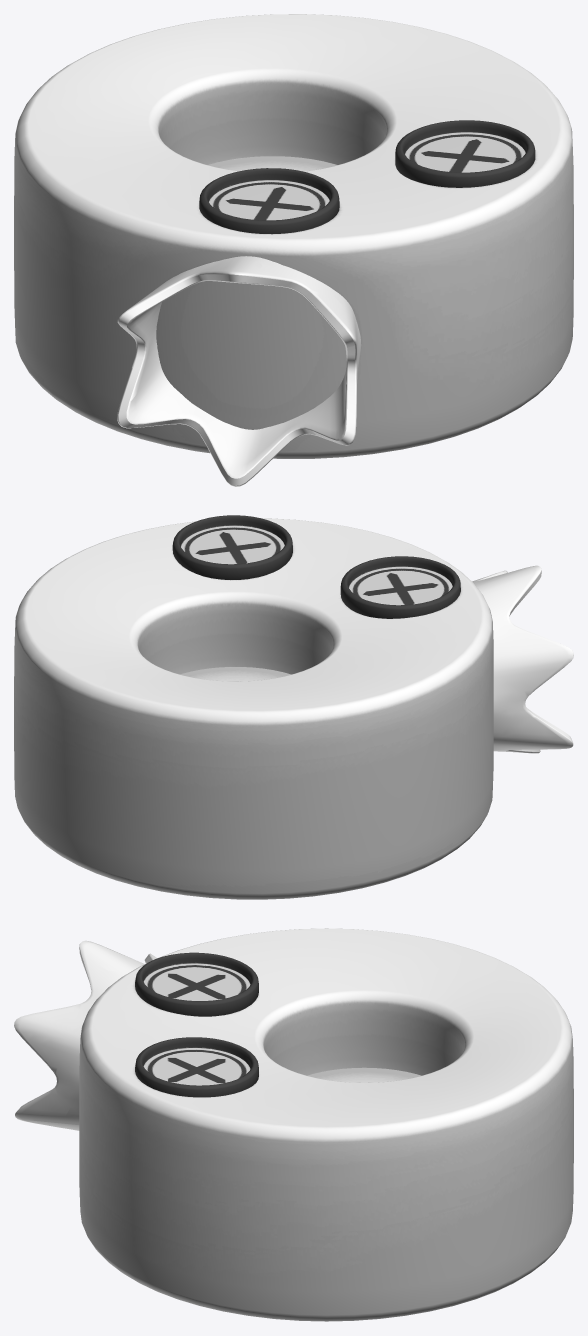
Rendered from Pin_Model_3.fbx.
The picture shows the model from 3 angles, top to bottom: view 1: azimuth 30°, elevation 25°; view 2: azimuth 150°, elevation 25°; view 3: azimuth 270°, elevation 25°; orthographic projection. The views are drawn at different scales.
Parts seen in each view (by area): view 1: blue1, vuongmien, eye; view 2: blue1, eye, vuongmien; view 3: blue1, eye, vuongmien.
Part boxes in pixels (x1,y1,x2,y2): blue1: (14, 14, 573, 458); vuongmien: (117, 256, 361, 486); eye: (199, 120, 535, 234); blue1: (14, 518, 493, 899); eye: (172, 515, 460, 618); vuongmien: (472, 565, 573, 753); blue1: (79, 928, 573, 1321); eye: (135, 952, 258, 1097); vuongmien: (14, 940, 156, 1130).
Size of the model in its own units: 0.693 by 0.2958 by 0.736.
Materials: 3 (2 with a texture image).
